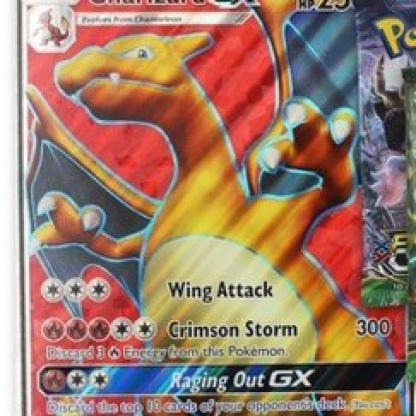Charizard: (29, 35, 401, 307)
